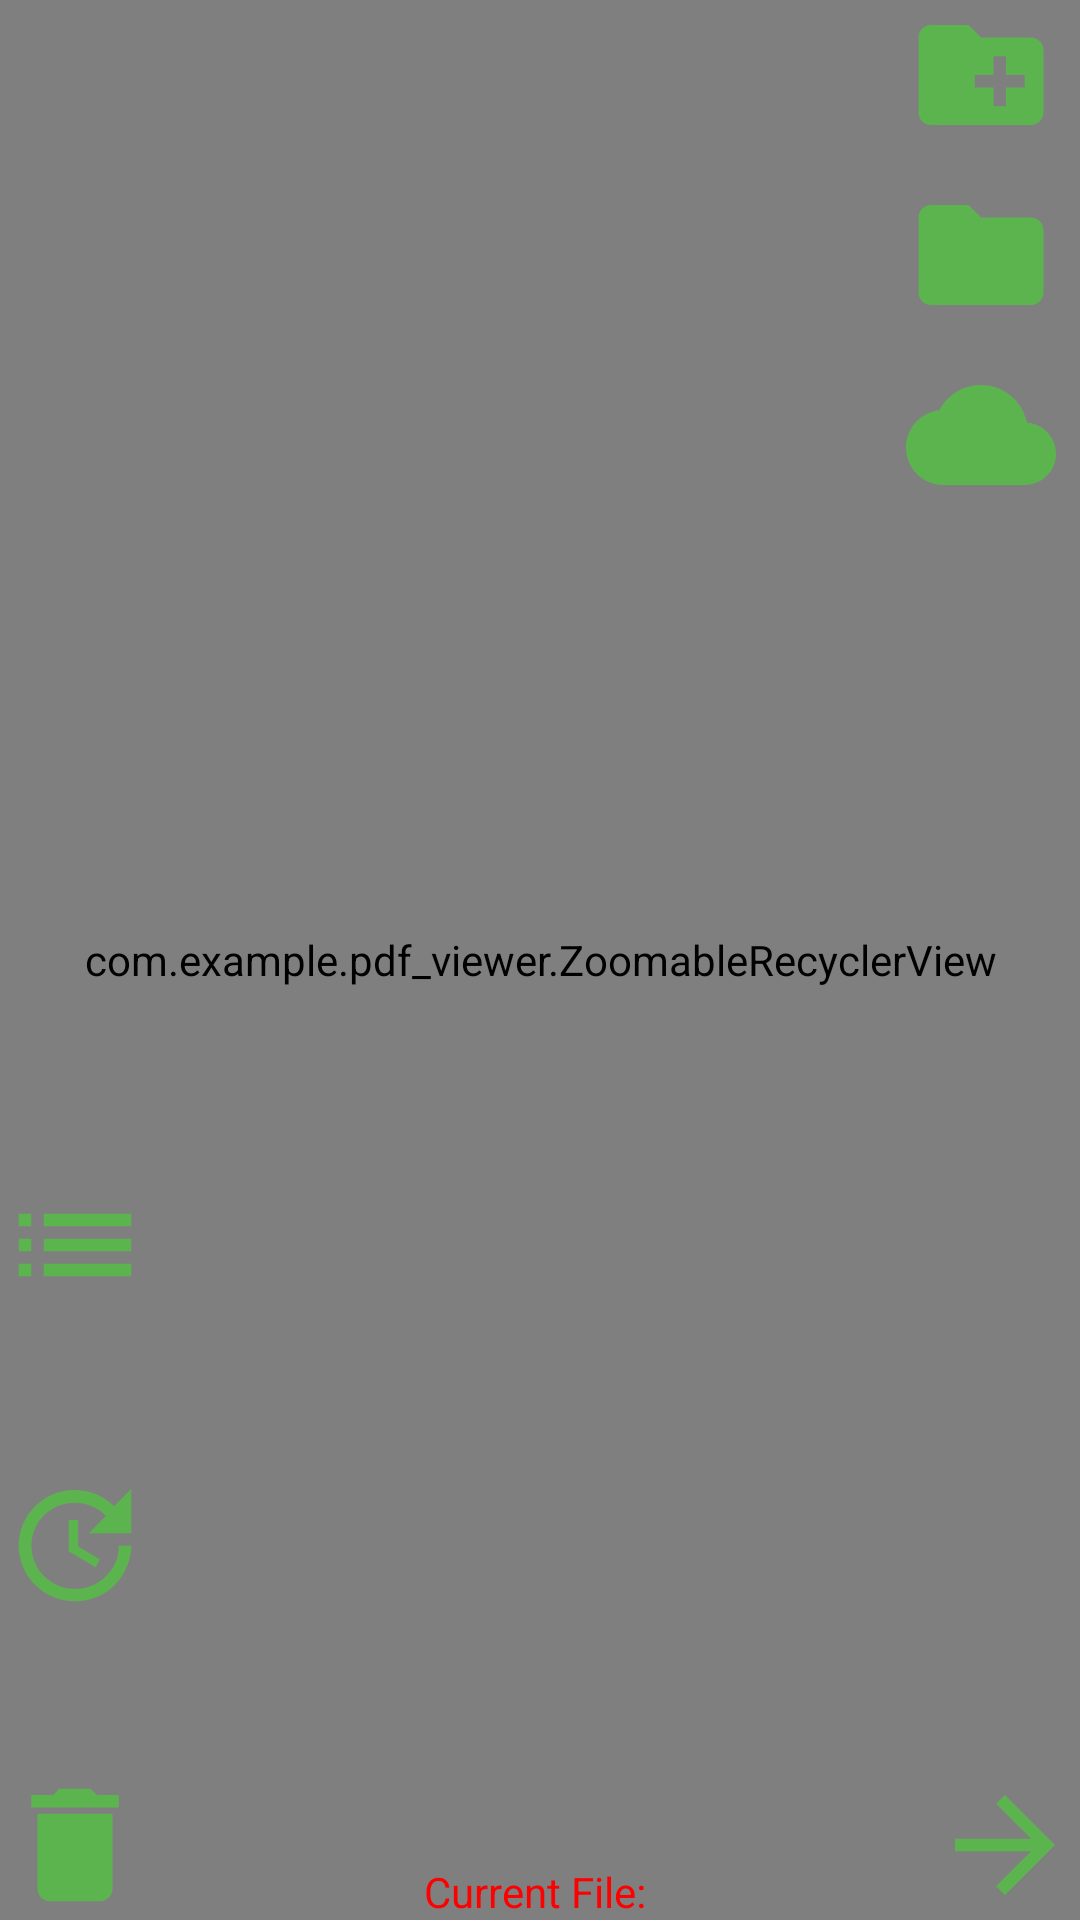

Icon click points for this 1080x1920 phone screenshot, format point (x, y):
add folder: point (981, 75)
delete: point (75, 1845)
folder: point (981, 255)
list: point (75, 1245)
right arrow: point (1005, 1845)
update: point (75, 1545)
